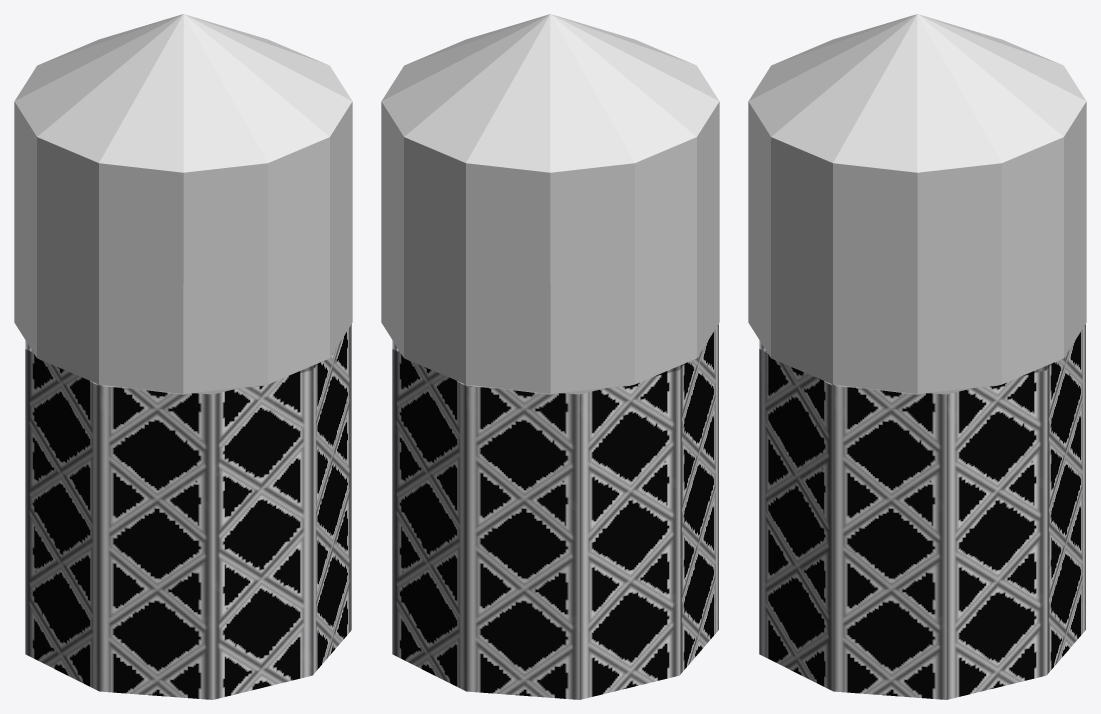
Rendered from waterTower.fbx.
3 renders of one model, left to right at view 1: azimuth 30°, elevation 25°; view 2: azimuth 150°, elevation 25°; view 3: azimuth 270°, elevation 25°, orthographic.
Parts seen in each view (by area): view 1: Cylinder; view 2: Cylinder; view 3: Cylinder.
Part boxes in pixels (x1,y1,x2,y2): Cylinder: (14,14,352,699); Cylinder: (381,14,719,699); Cylinder: (748,14,1086,699).
Bounding box in the file's own units: 448 × 900 × 448.
